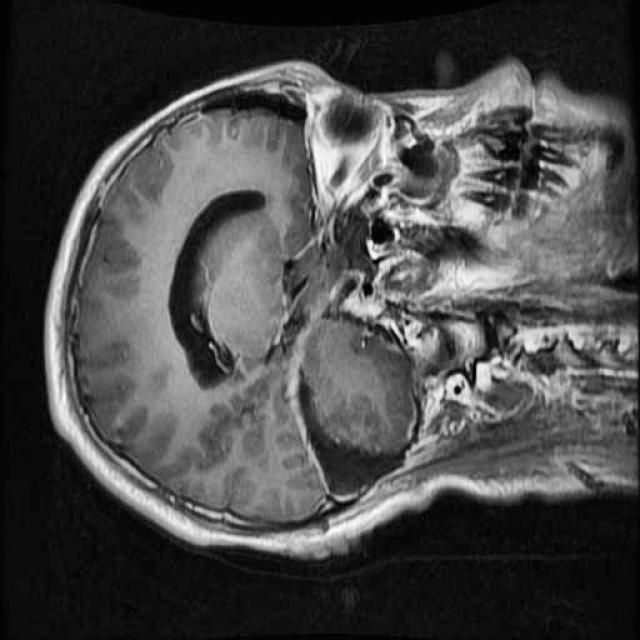Non-Tumor: (276, 358, 434, 525)
